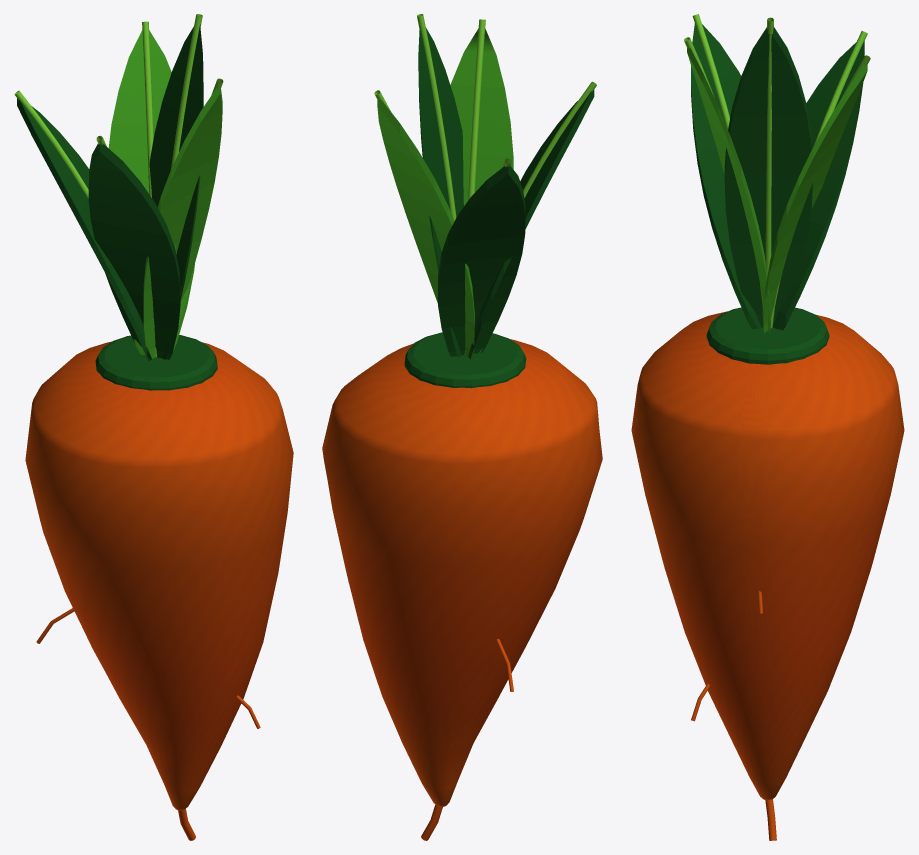
Rendered from carrot.glb.
The picture shows the model from 3 angles, left to right: view 1: azimuth 30°, elevation 25°; view 2: azimuth 150°, elevation 25°; view 3: azimuth 270°, elevation 25°; orthographic projection.
Parts seen in each view (by area): view 1: carrot; view 2: carrot; view 3: carrot.
Part boxes in pixels (bbox=[...]): carrot: bbox=[14, 14, 293, 840]; carrot: bbox=[322, 14, 602, 840]; carrot: bbox=[631, 14, 904, 840].
Bounding box in the file's own units: 0.3063 × 1 × 0.2995.
1 material, 1 textured.
